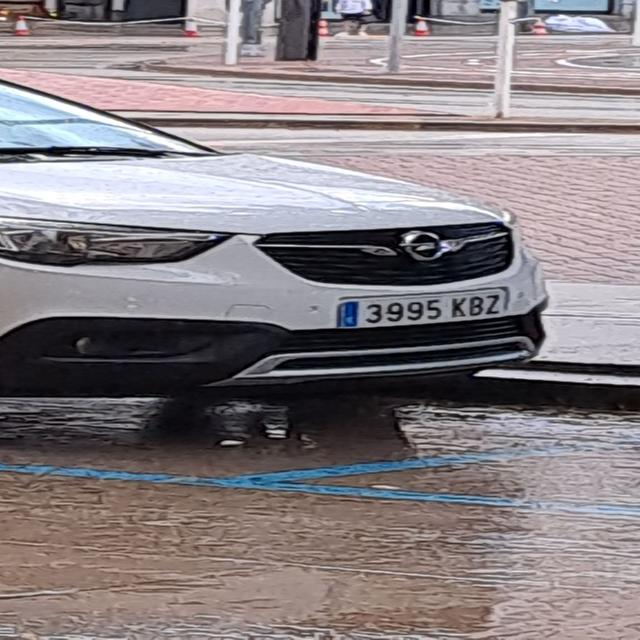license_plate-34Td: (343, 290, 507, 327)
